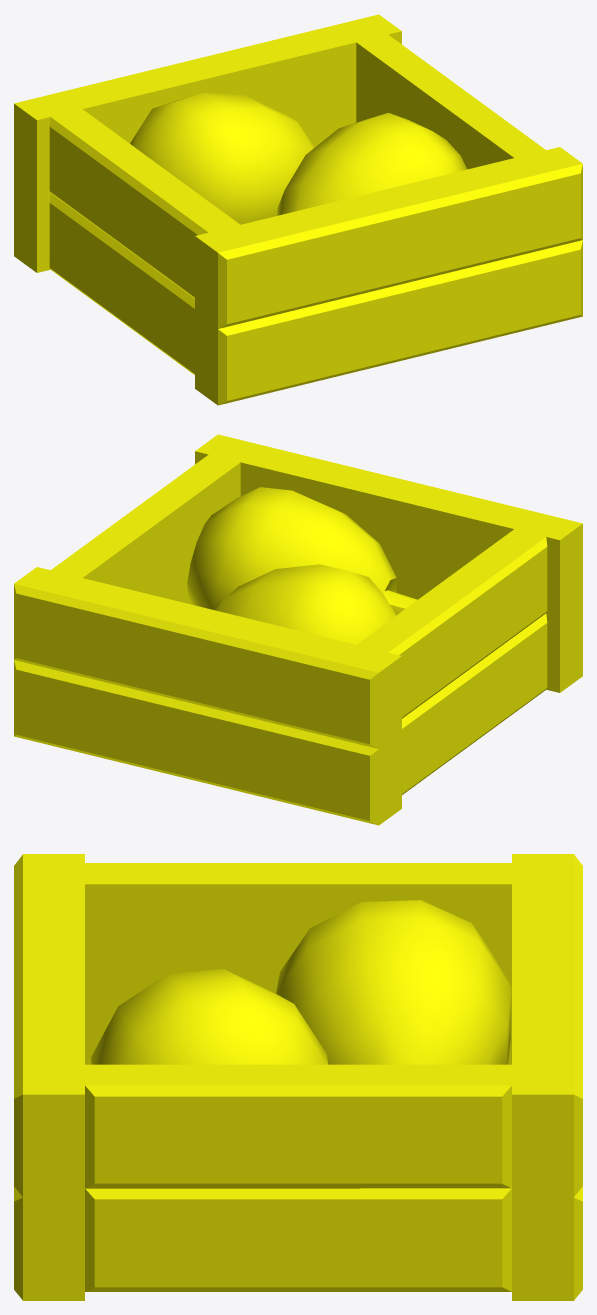
File: kaykit-crate-ham.glb
3 renders of one model, top to bottom at view 1: azimuth 30°, elevation 25°; view 2: azimuth 150°, elevation 25°; view 3: azimuth 270°, elevation 25°, orthographic. The views are drawn at different scales.
Visible parts, largest first — view 1: crate_ham; view 2: crate_ham; view 3: crate_ham.
Part boxes in pixels (box(x1,y1,x2,y2)): crate_ham: box(14, 14, 582, 405); crate_ham: box(14, 434, 582, 825); crate_ham: box(14, 854, 582, 1300).
Bounding box in the file's own units: 2 × 0.8936 × 2.
